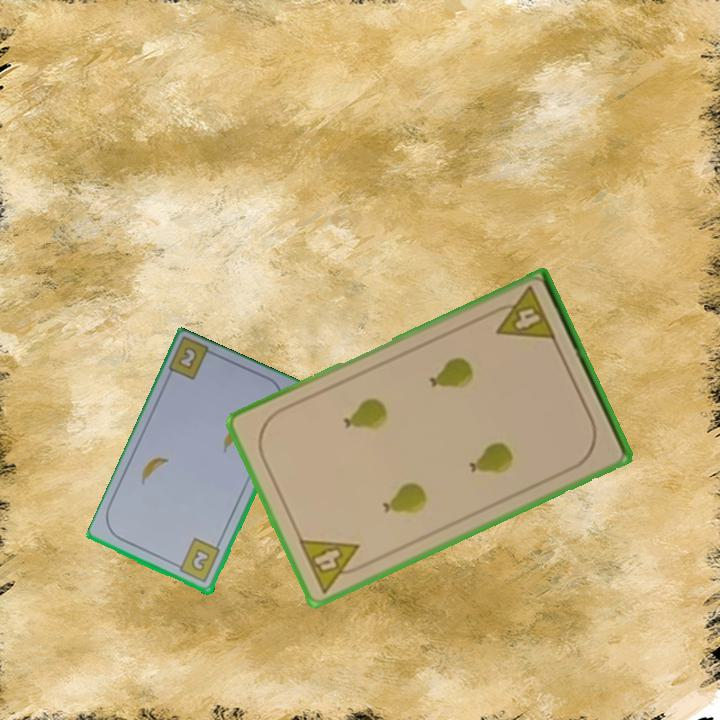2b: (171, 535, 223, 586), (174, 344, 200, 373)
4p: (295, 535, 371, 596), (485, 283, 558, 344)
